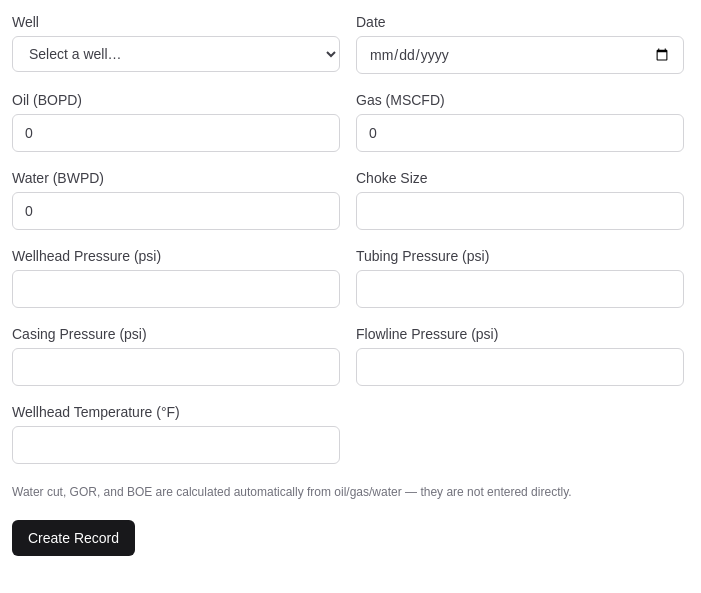
Test: ProductionForm › shows validation errors when required fields are missing
Click the button "Create Record" at [74, 538], box x1=12 y1=520 x2=135 y2=556
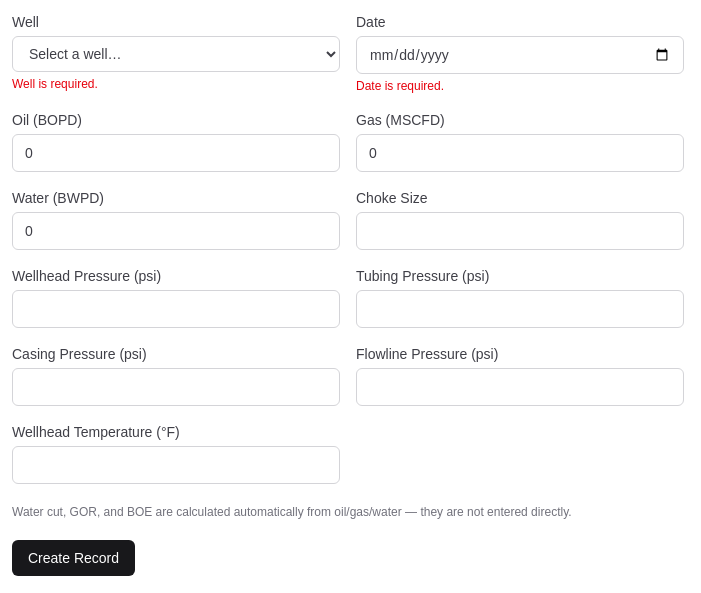
Now the text "Well is required." is shown, box x1=12 y1=77 x2=98 y2=91
Now the text "Date is required." is shown, box x1=356 y1=79 x2=444 y2=93
